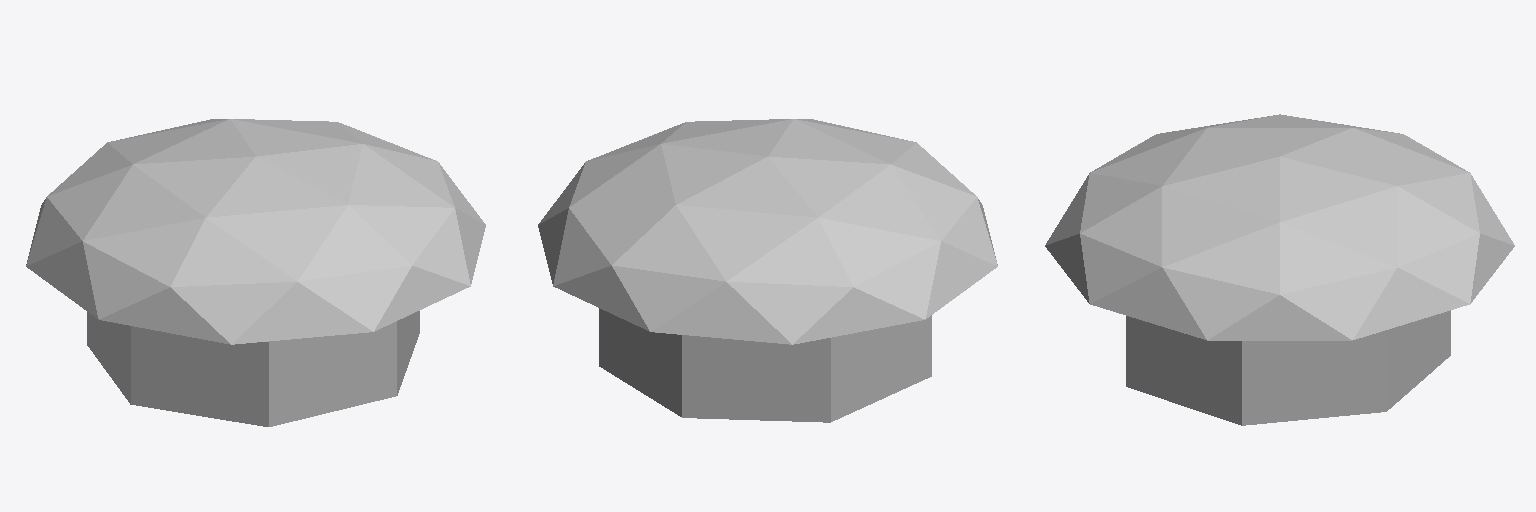
File: air_vent.obj
The picture shows the model from 3 angles: view 1: azimuth 30°, elevation 25°; view 2: azimuth 150°, elevation 25°; view 3: azimuth 270°, elevation 25°; orthographic projection.
Parts seen in each view (by area): view 1: Cube; view 2: Cube; view 3: Cube.
Part boxes in pixels (bbox=[...]): Cube: bbox=[26, 119, 485, 426]; Cube: bbox=[538, 119, 997, 422]; Cube: bbox=[1045, 114, 1514, 425].
Bounding box in the file's own units: 4.54 × 2.22 × 4.77.